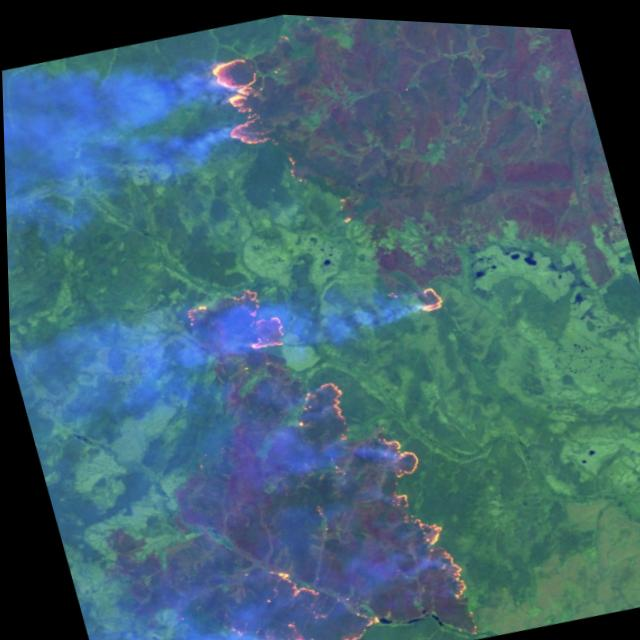fire: (283, 340, 497, 628), (153, 248, 309, 380), (197, 545, 387, 640), (186, 34, 294, 164), (394, 265, 461, 329)
